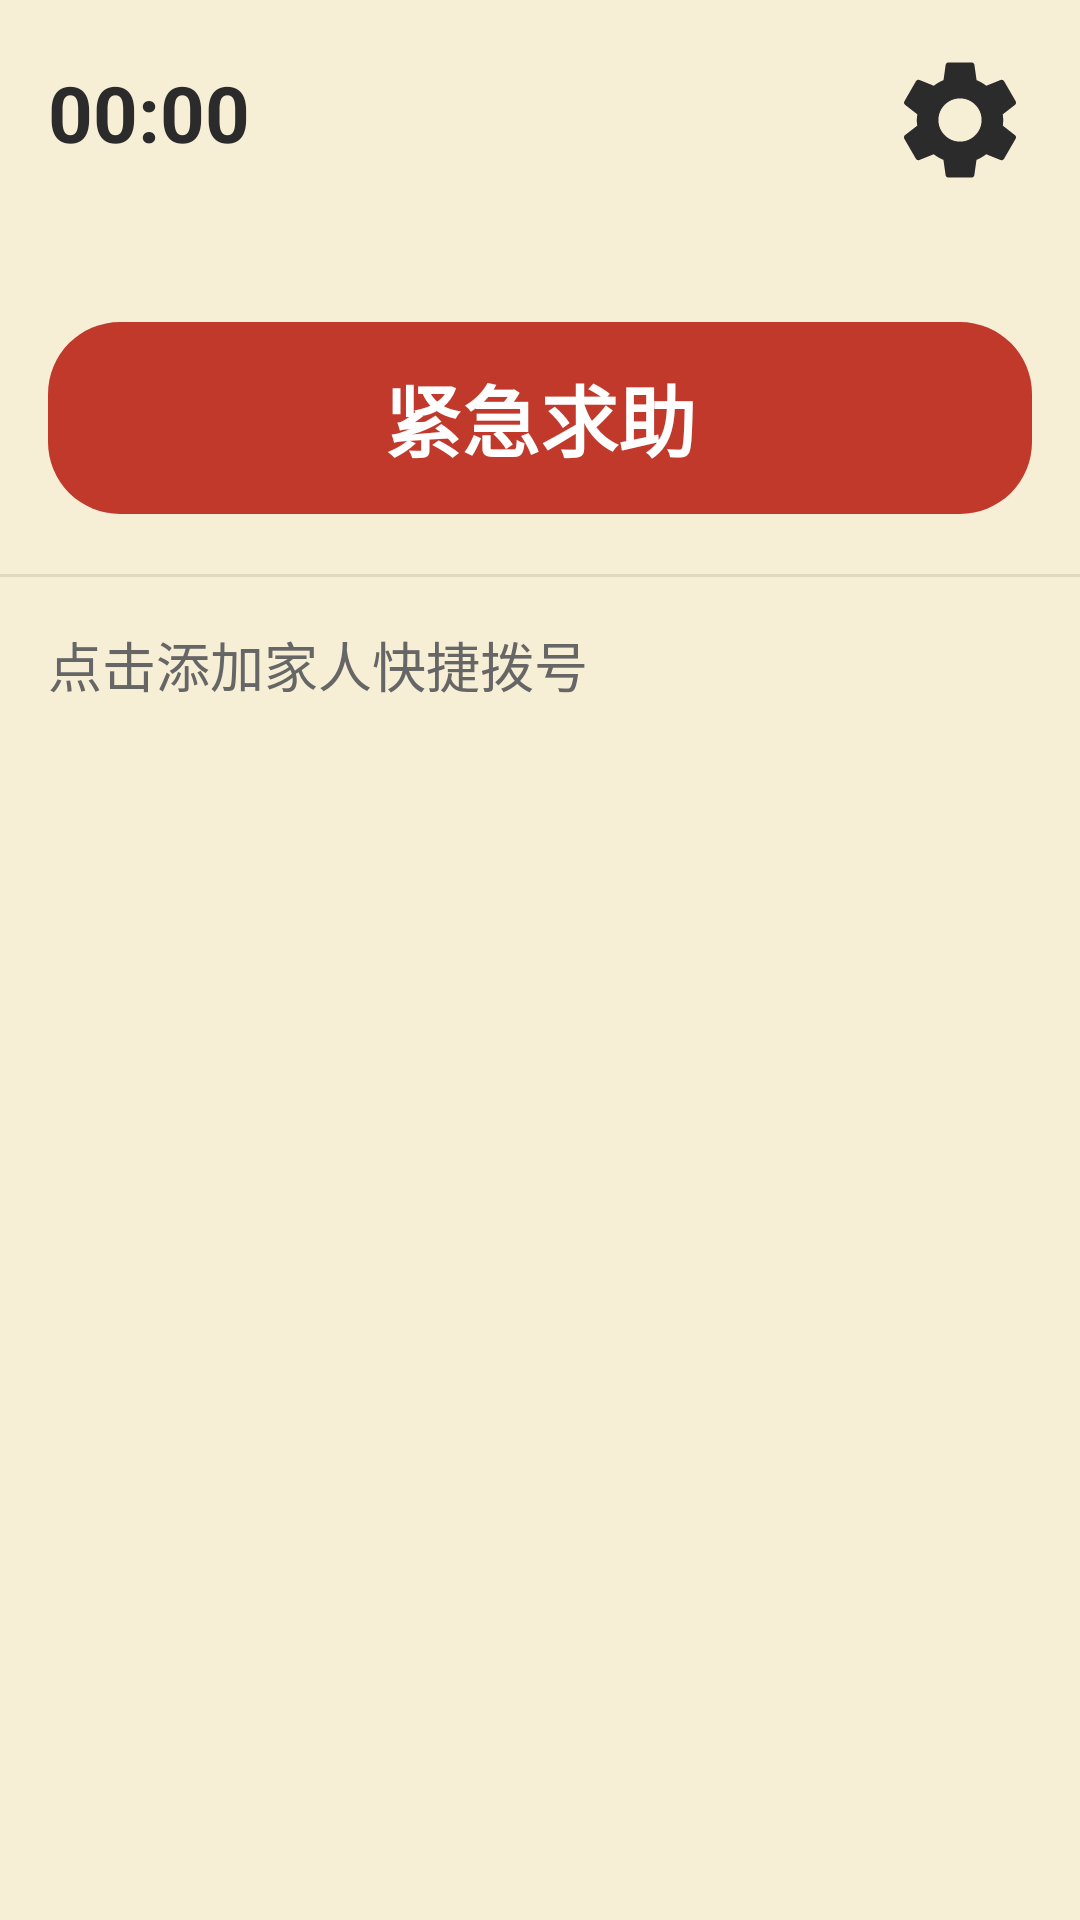

Where to tap for icons on this 1080px x 1920px app screen, as point (x, y):
设置: point (960, 120)
